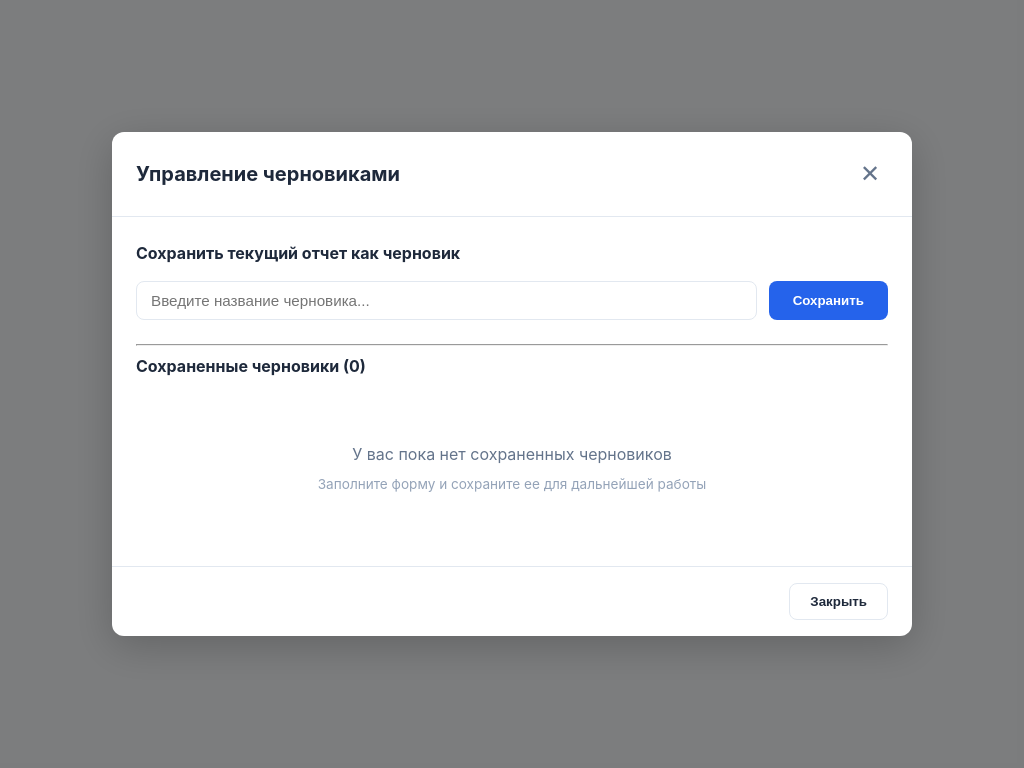
DraftsManager › показывает сообщение об успешном сохранении
This screenshot has width=1024, height=768.
Type "Мой черновик" into the field with placeholder "Введите название черновика..." at [446, 300], box [136,281,757,320]
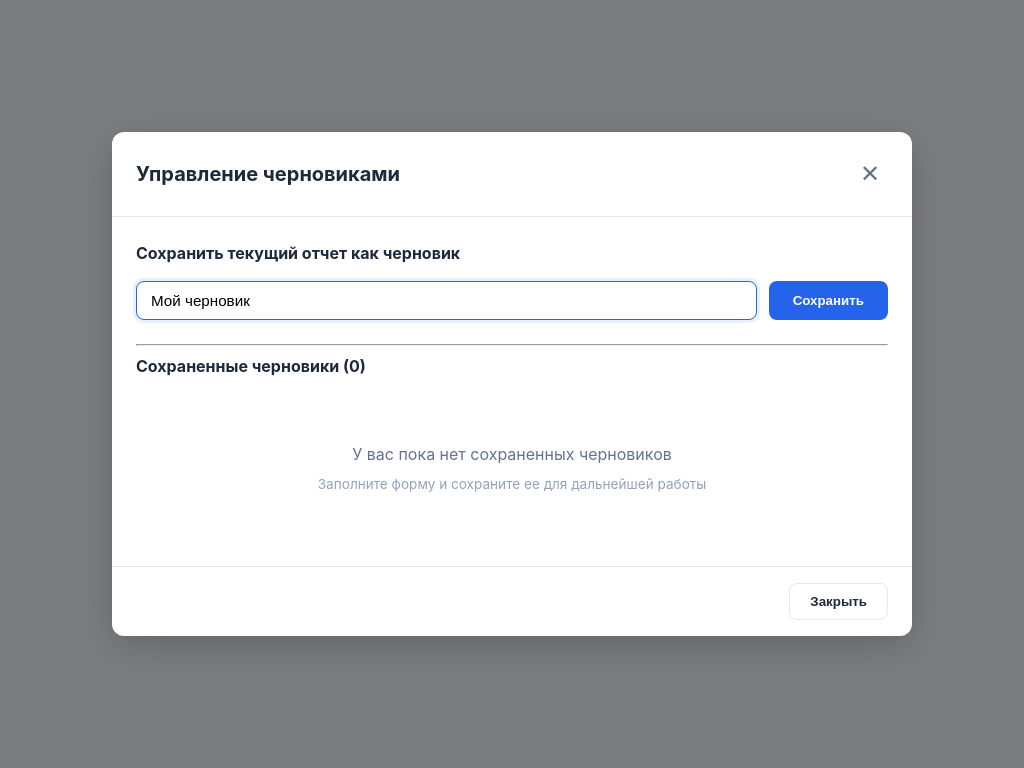
Click the button "Сохранить" at [828, 300], box [769,281,888,320]
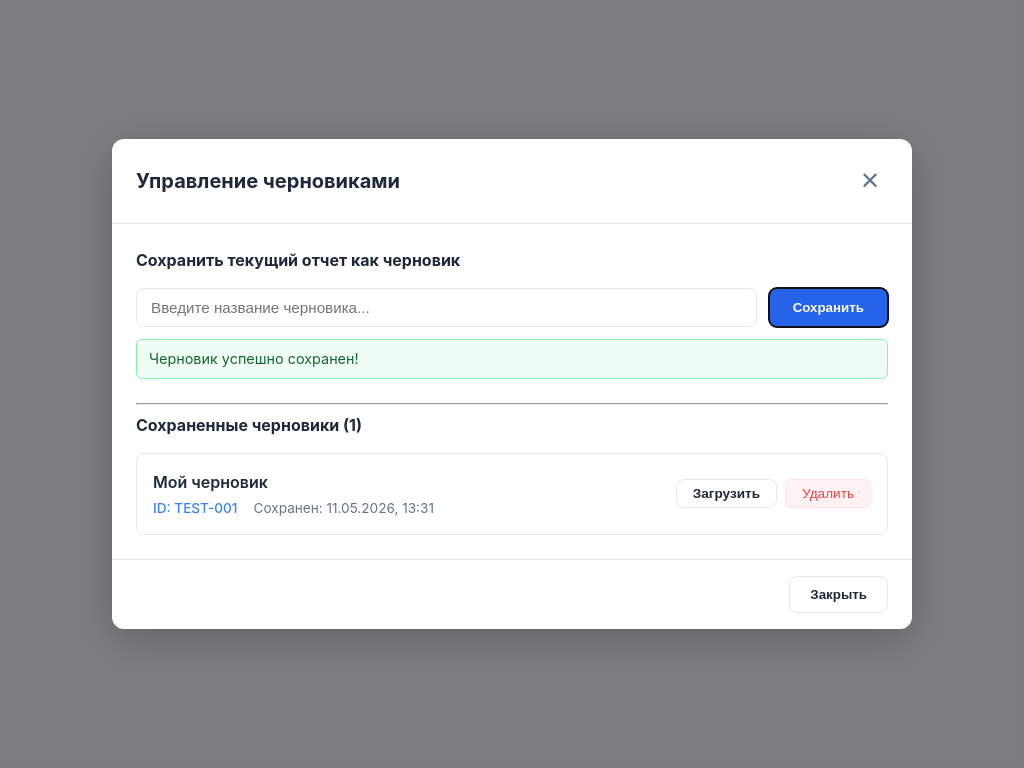
Expected: the text "Черновик успешно сохранен!" is shown, [136,339,888,379]
